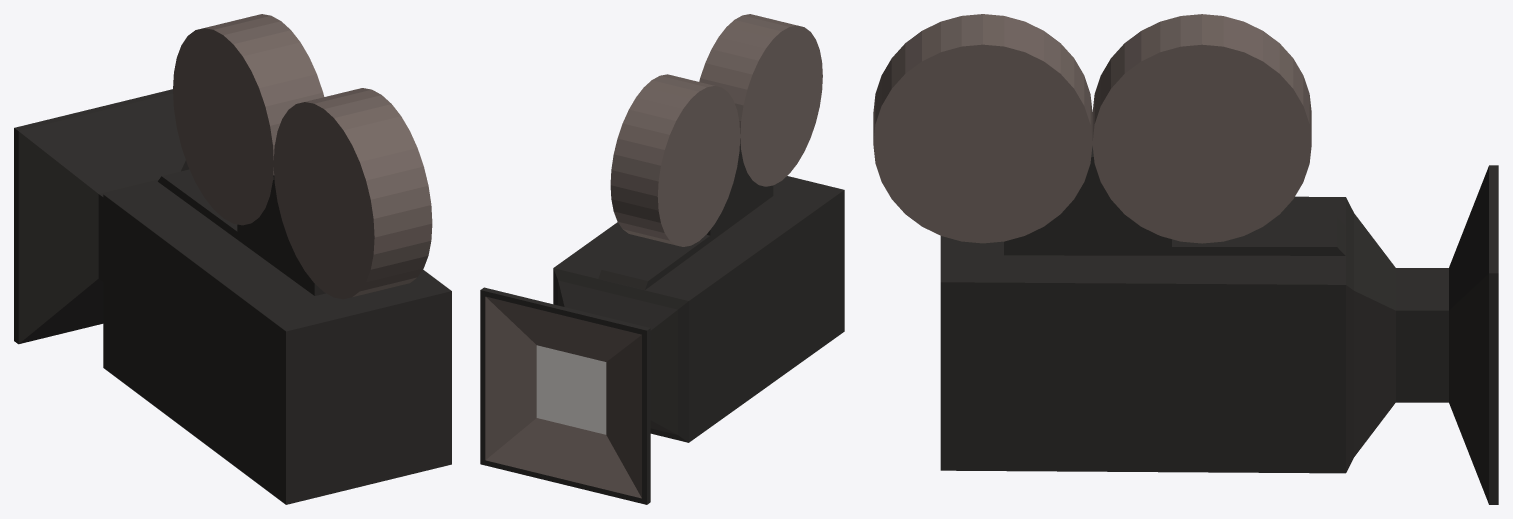
Rendered from camera.fbx.
3 renders of one model, left to right at view 1: azimuth 30°, elevation 25°; view 2: azimuth 150°, elevation 25°; view 3: azimuth 270°, elevation 25°, orthographic. The views are drawn at different scales.
Visible parts, largest first — view 1: Cube, Cylinder.001, Cylinder, Cube.001; view 2: Cube, Cylinder, Cylinder.001, Cube.001; view 3: Cube, Cylinder, Cylinder.001, Cube.001.
Part boxes in pixels (x1,y1,x2,y2): Cube: (14,89,451,504); Cylinder.001: (273,88,432,299); Cylinder: (173,14,324,225); Cube.001: (158,169,325,295); Cube: (480,176,844,504); Cylinder: (610,74,740,246); Cylinder.001: (699,14,822,186); Cube.001: (598,145,773,289); Cube: (940,165,1498,504); Cylinder: (1092,14,1311,243); Cylinder.001: (873,14,1092,243); Cube.001: (1004,146,1345,255).
Size of the model in its own units: 23.94 by 43.57 by 58.58.
